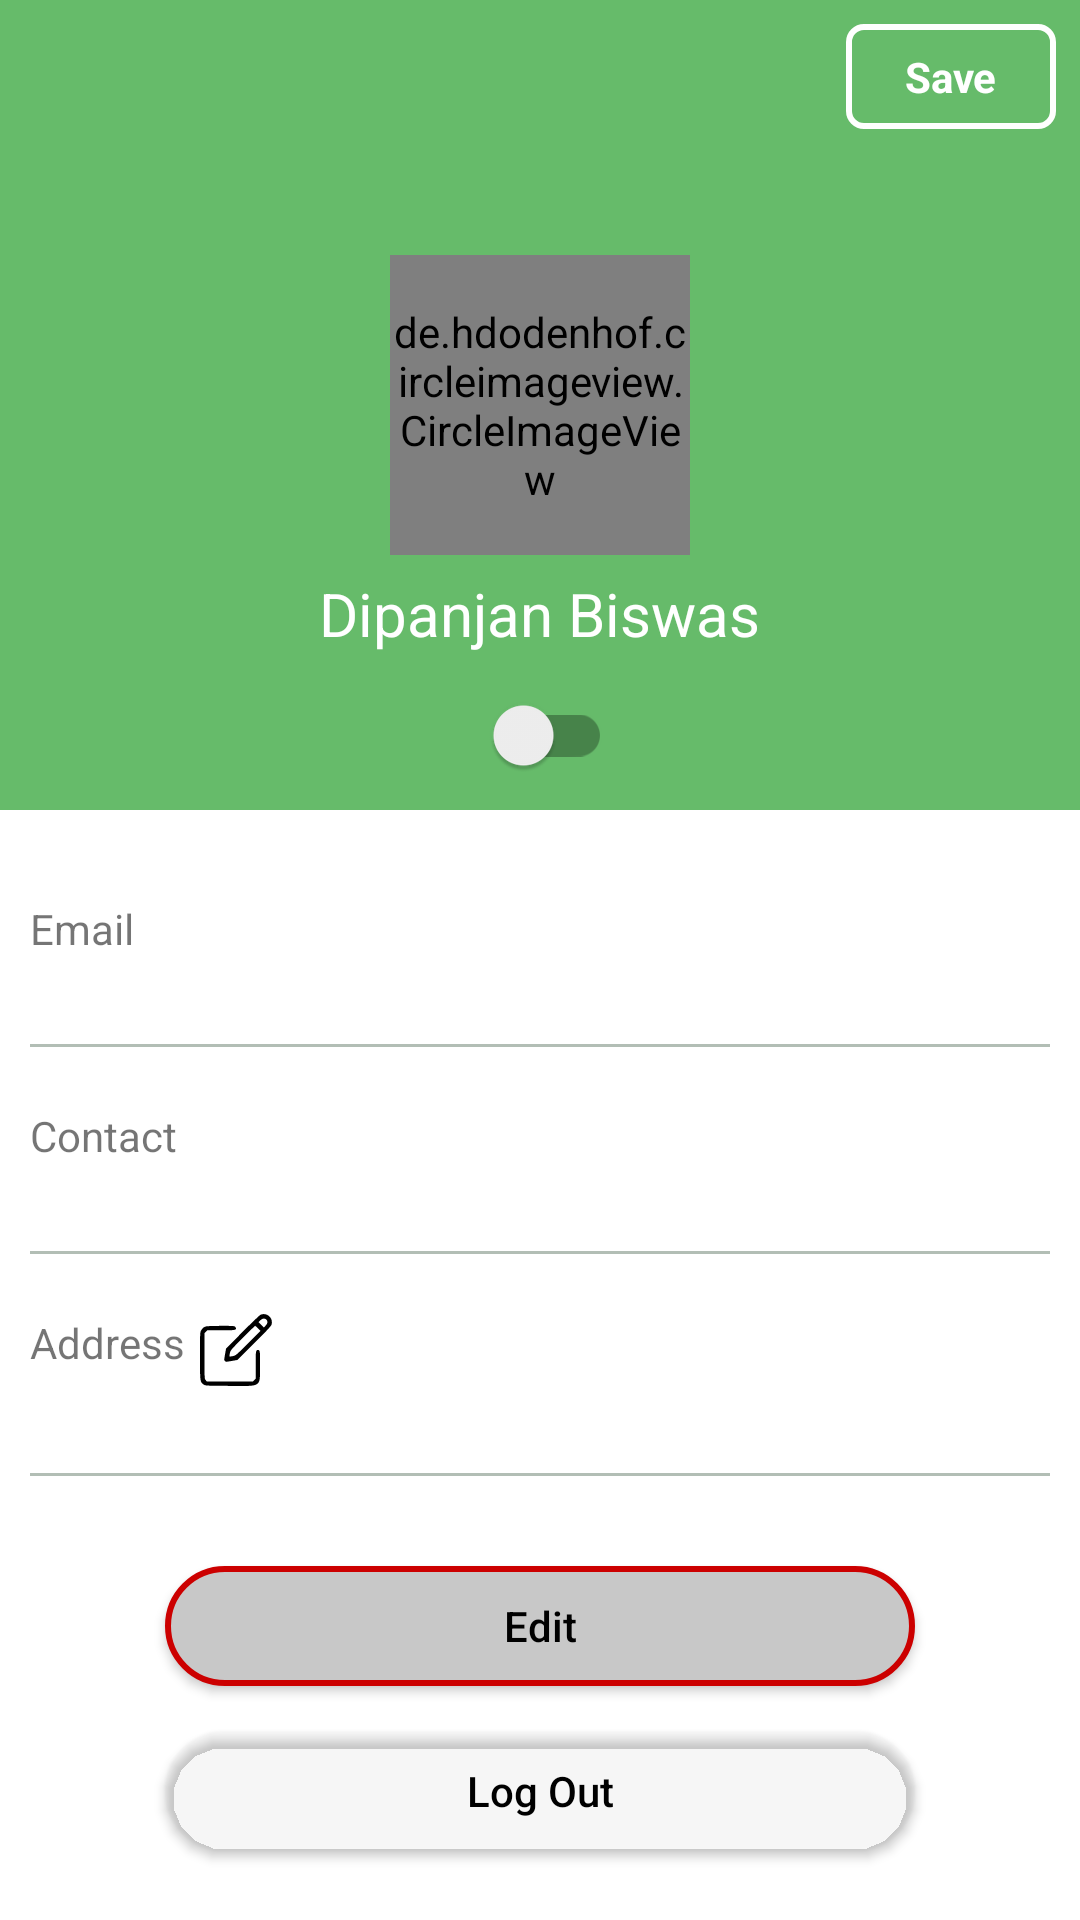

Icons on this 1080*1920 Android screen, each with its box as box=[x1, y1, x2, y2]:
edit: box=[200, 1314, 272, 1386]
